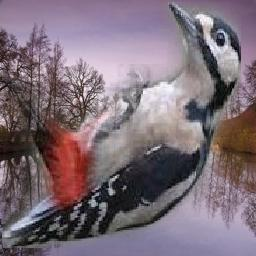Woodpecker: (3, 2, 242, 248)
